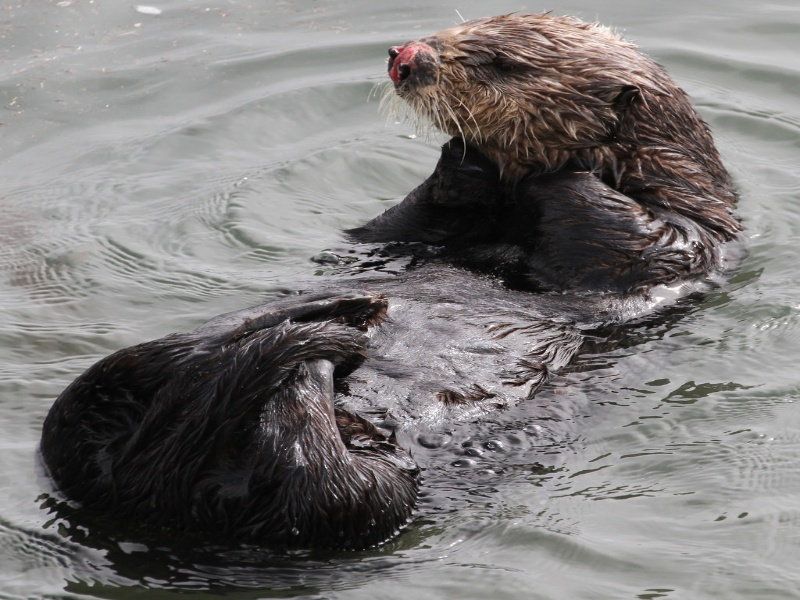minkish: (38, 7, 744, 558)
